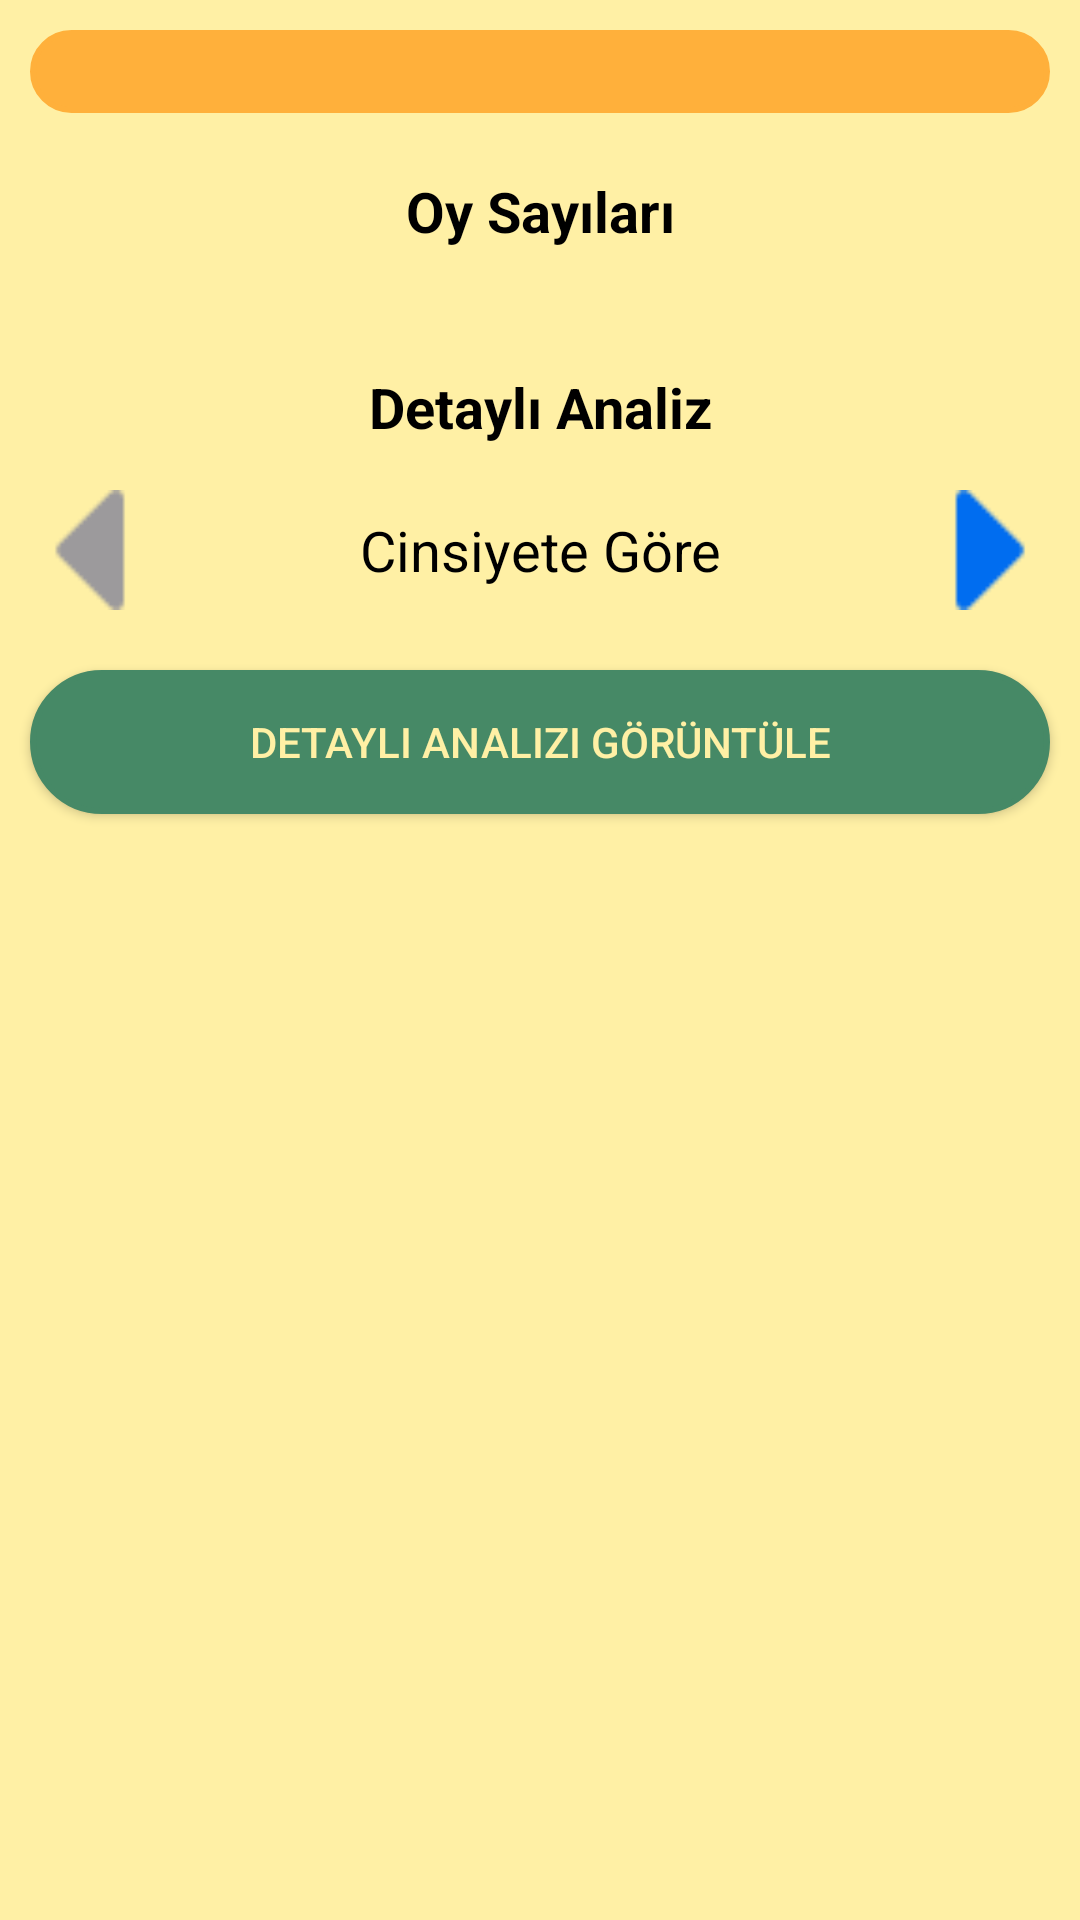

Locate icon controls on the screen. Image size 1080×1920, boxes as (x1=x1, y1=y1, x2=x2, y2=y2).
Sağ: (x1=955, y1=490, x2=1025, y2=610)
Sol: (x1=56, y1=490, x2=125, y2=610)
